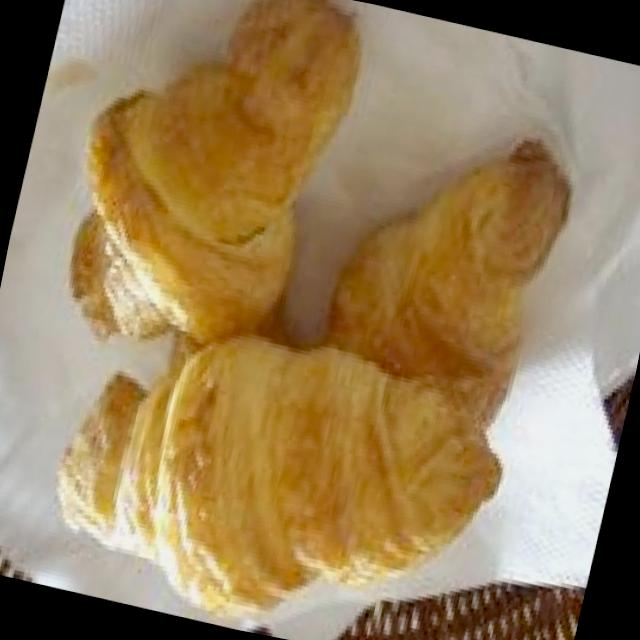Croissant: (20, 303, 513, 640)
